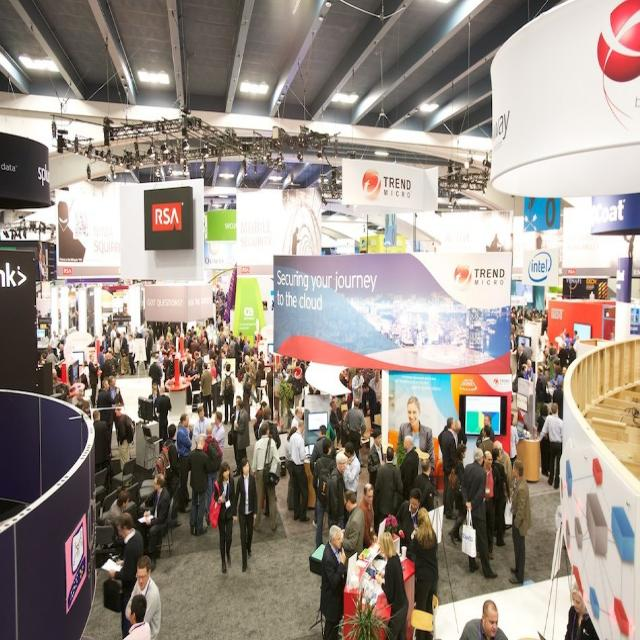body: (151, 318, 262, 381), (460, 447, 499, 579), (405, 505, 440, 640), (108, 511, 145, 638), (373, 529, 410, 639), (206, 459, 238, 574), (250, 420, 282, 532), (37, 306, 80, 389), (136, 471, 171, 572), (318, 522, 348, 639), (184, 433, 215, 539), (124, 553, 162, 639), (231, 456, 258, 574), (396, 395, 440, 467), (154, 422, 183, 530), (310, 438, 337, 550), (85, 301, 144, 352), (308, 424, 335, 530), (510, 458, 532, 585), (373, 445, 404, 534), (560, 578, 605, 639), (339, 488, 366, 586), (535, 402, 564, 492), (288, 416, 311, 524), (57, 197, 90, 269), (490, 446, 512, 547), (448, 443, 468, 546), (459, 598, 508, 640), (202, 424, 224, 514), (440, 416, 459, 520), (175, 412, 195, 508), (96, 378, 120, 458), (396, 487, 422, 557), (482, 449, 498, 561), (538, 348, 579, 390), (342, 441, 361, 531), (510, 304, 548, 349), (232, 398, 252, 482), (342, 396, 367, 458), (114, 403, 137, 470), (358, 481, 378, 552), (492, 439, 514, 503), (123, 592, 152, 640), (412, 457, 436, 513), (342, 407, 367, 459), (399, 434, 419, 496), (284, 424, 298, 512), (437, 418, 469, 456), (92, 410, 110, 474), (218, 362, 236, 426), (367, 427, 386, 487), (536, 403, 551, 478), (257, 405, 282, 450), (153, 383, 172, 442), (228, 394, 242, 474), (107, 374, 125, 435), (190, 404, 213, 451), (107, 488, 131, 529), (360, 381, 378, 431), (198, 361, 213, 419), (265, 362, 279, 423), (548, 323, 580, 349), (338, 364, 356, 410), (275, 360, 290, 414), (36, 240, 54, 284), (534, 364, 548, 418), (210, 409, 226, 453), (241, 363, 253, 421), (329, 399, 344, 445), (148, 351, 164, 394), (291, 360, 305, 409), (88, 352, 100, 409), (252, 400, 268, 442), (350, 367, 365, 411), (72, 387, 91, 419), (212, 287, 230, 320), (76, 359, 91, 398), (478, 412, 496, 444), (208, 358, 218, 415), (148, 382, 162, 422), (98, 352, 112, 390), (240, 354, 252, 398), (510, 414, 519, 472), (290, 222, 304, 259), (119, 330, 130, 377), (477, 425, 494, 455), (368, 369, 382, 405), (254, 361, 266, 403), (125, 331, 136, 376), (485, 226, 500, 258), (552, 379, 563, 422), (290, 404, 306, 433), (212, 353, 222, 396), (516, 344, 528, 378), (113, 333, 122, 376), (186, 358, 201, 383), (143, 329, 153, 365), (107, 350, 119, 379), (520, 340, 534, 362), (109, 322, 119, 350), (534, 228, 544, 255), (307, 382, 323, 398), (525, 358, 535, 382), (281, 353, 291, 374), (98, 345, 106, 370), (516, 363, 528, 379), (143, 320, 148, 347), (148, 324, 154, 336)
